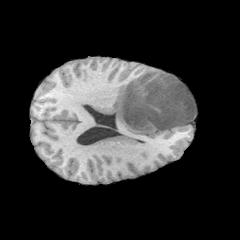glioma: (87, 71, 184, 137)
